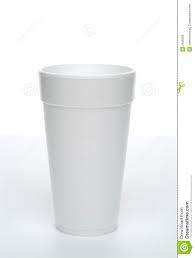Plastic cup: (36, 51, 146, 239)
